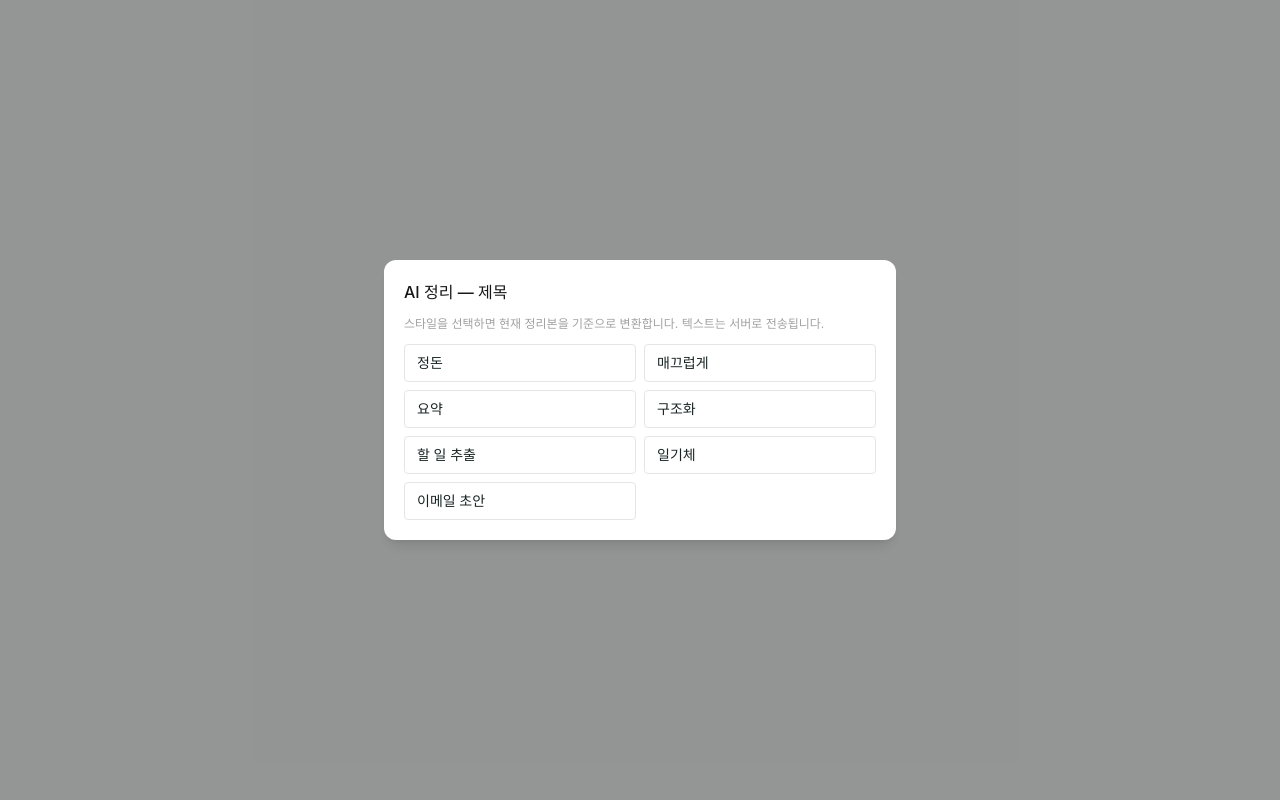
Scenario: TransformDialog › 프리셋 실행 → 편집 가능한 미리보기 textarea
Click the button "요약" at (520, 409), box [404,390,636,428]
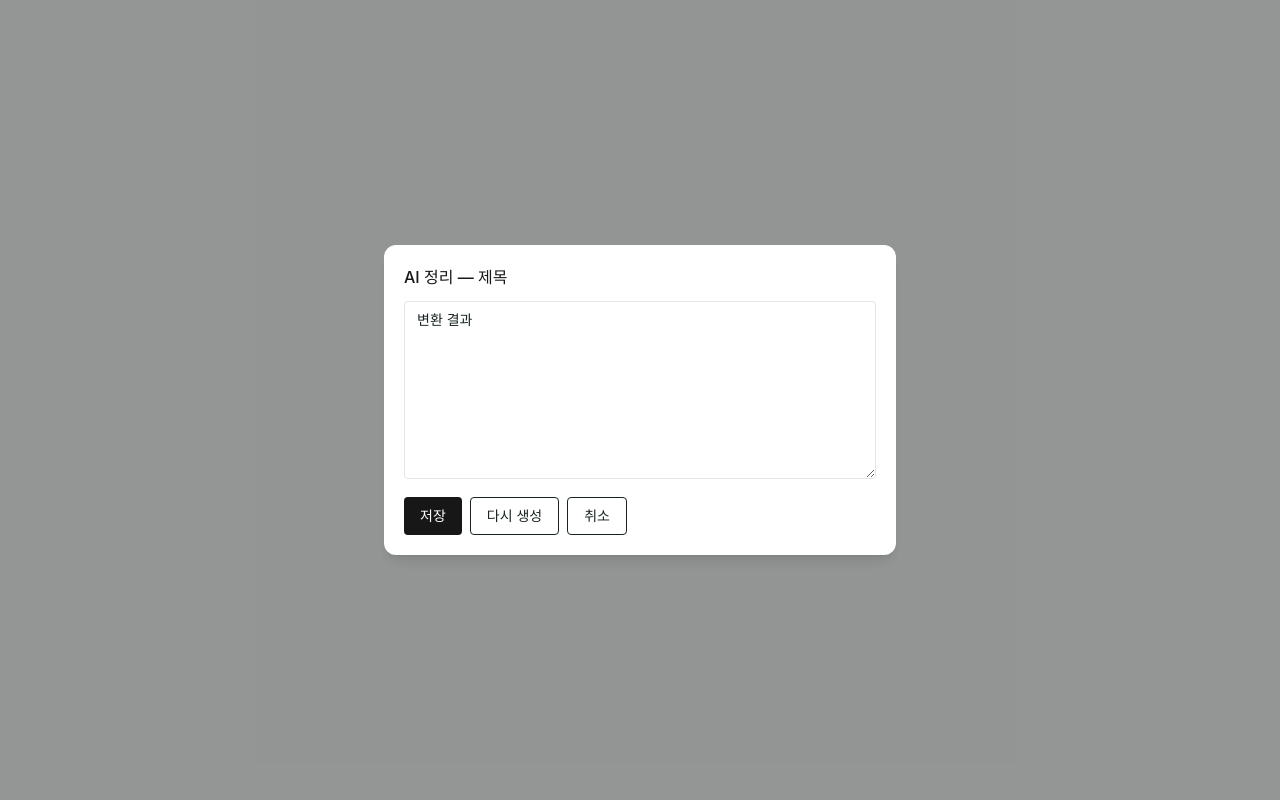
Now the text box showing "변환 결과" is shown, box [404,301,876,479]
